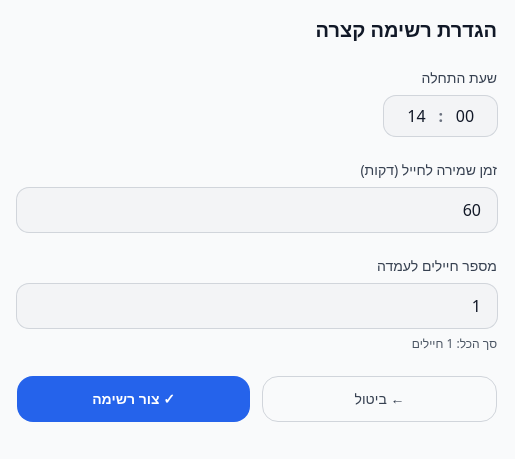
Test case: ShortListStep2 › shows per-field error below minutesPerWarrior when value is empty on submit
Expected: the heading "הגדרת רשימה קצרה" is shown, [316, 16, 497, 43]
Note: Clear minutesPerWarrior field and try to submit
Clear the number field showing "60" below "זמן שמירה לחייל (דקות)" at (257, 210), box [17, 188, 497, 232]
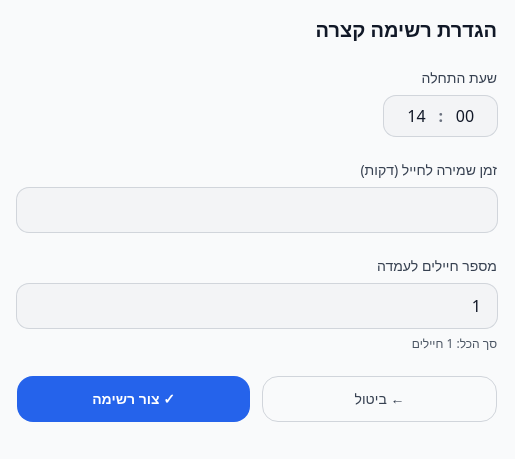
Click the button "✓ צור רשימה" at (134, 399), box [17, 376, 250, 422]
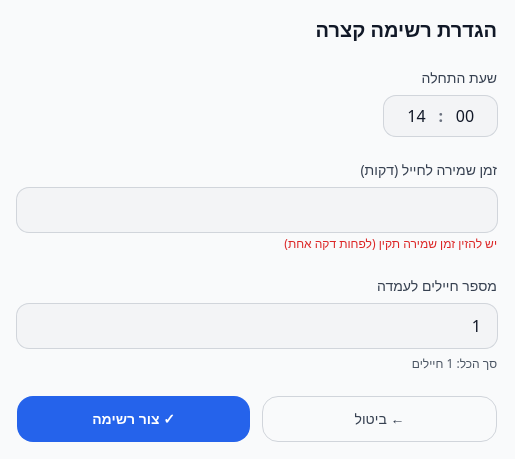
Expected: the text "יש להזין זמן שמירה תקין (לפחות דקה אחת)" is shown, [284, 235, 497, 252]
